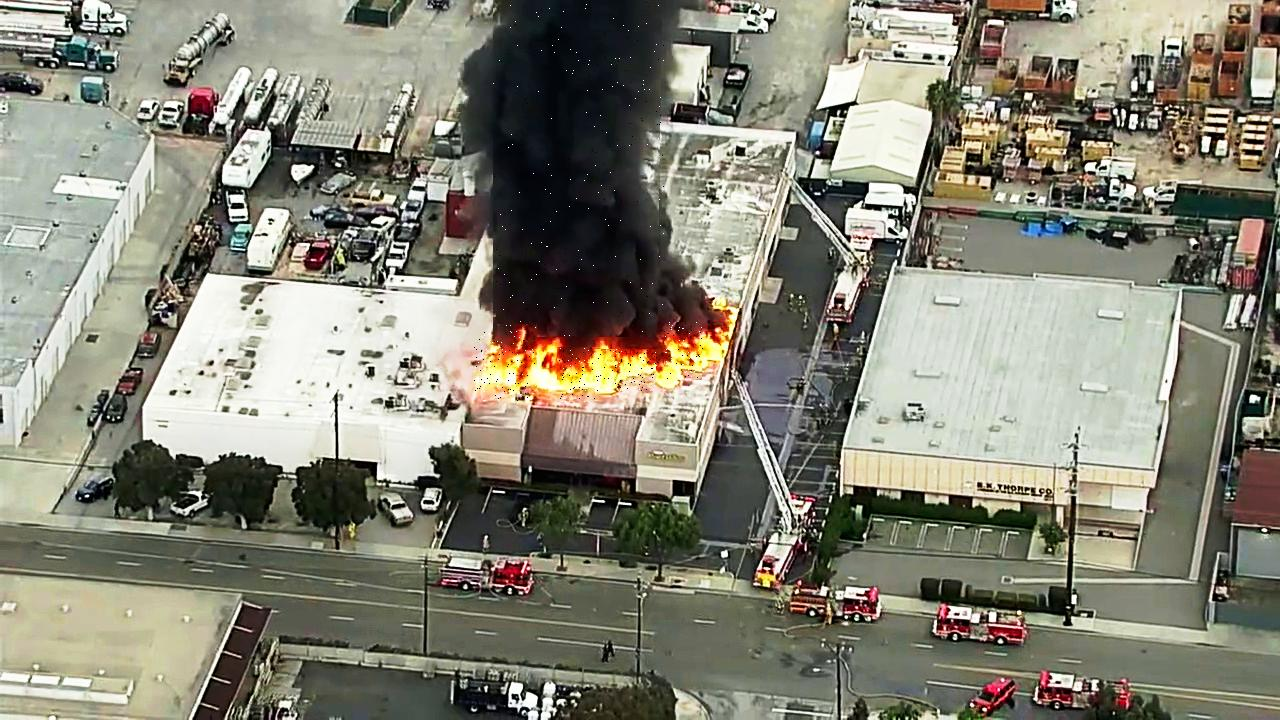fire: (474, 332, 529, 401), (573, 350, 659, 392), (499, 324, 537, 395), (665, 322, 705, 380), (558, 347, 599, 402)
smoke: (494, 0, 665, 337)
